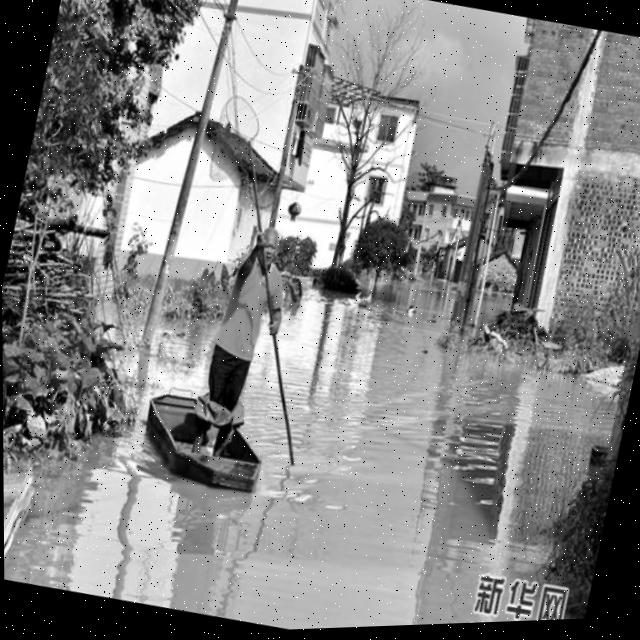civilian: (176, 201, 312, 475)
